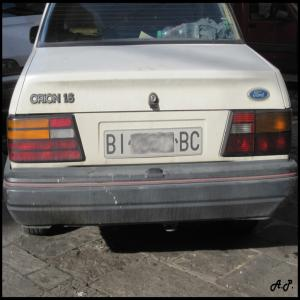Vehicle-registration-plate: (105, 128, 202, 159)
